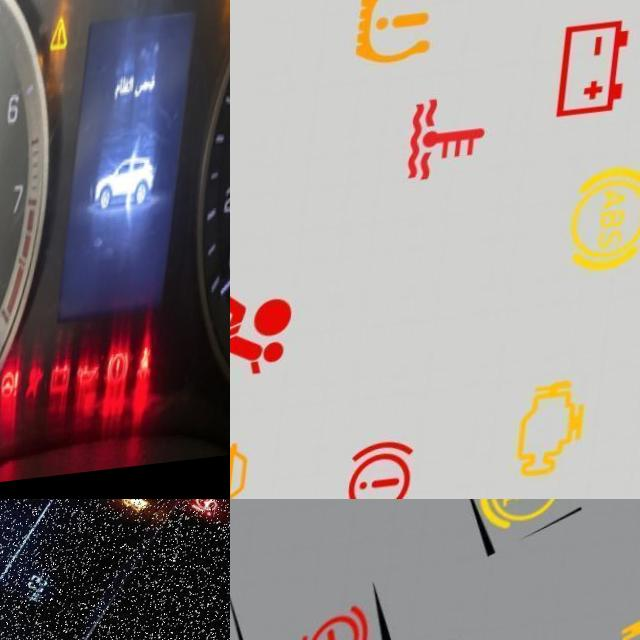Seat Belt: (147, 349, 168, 396)
